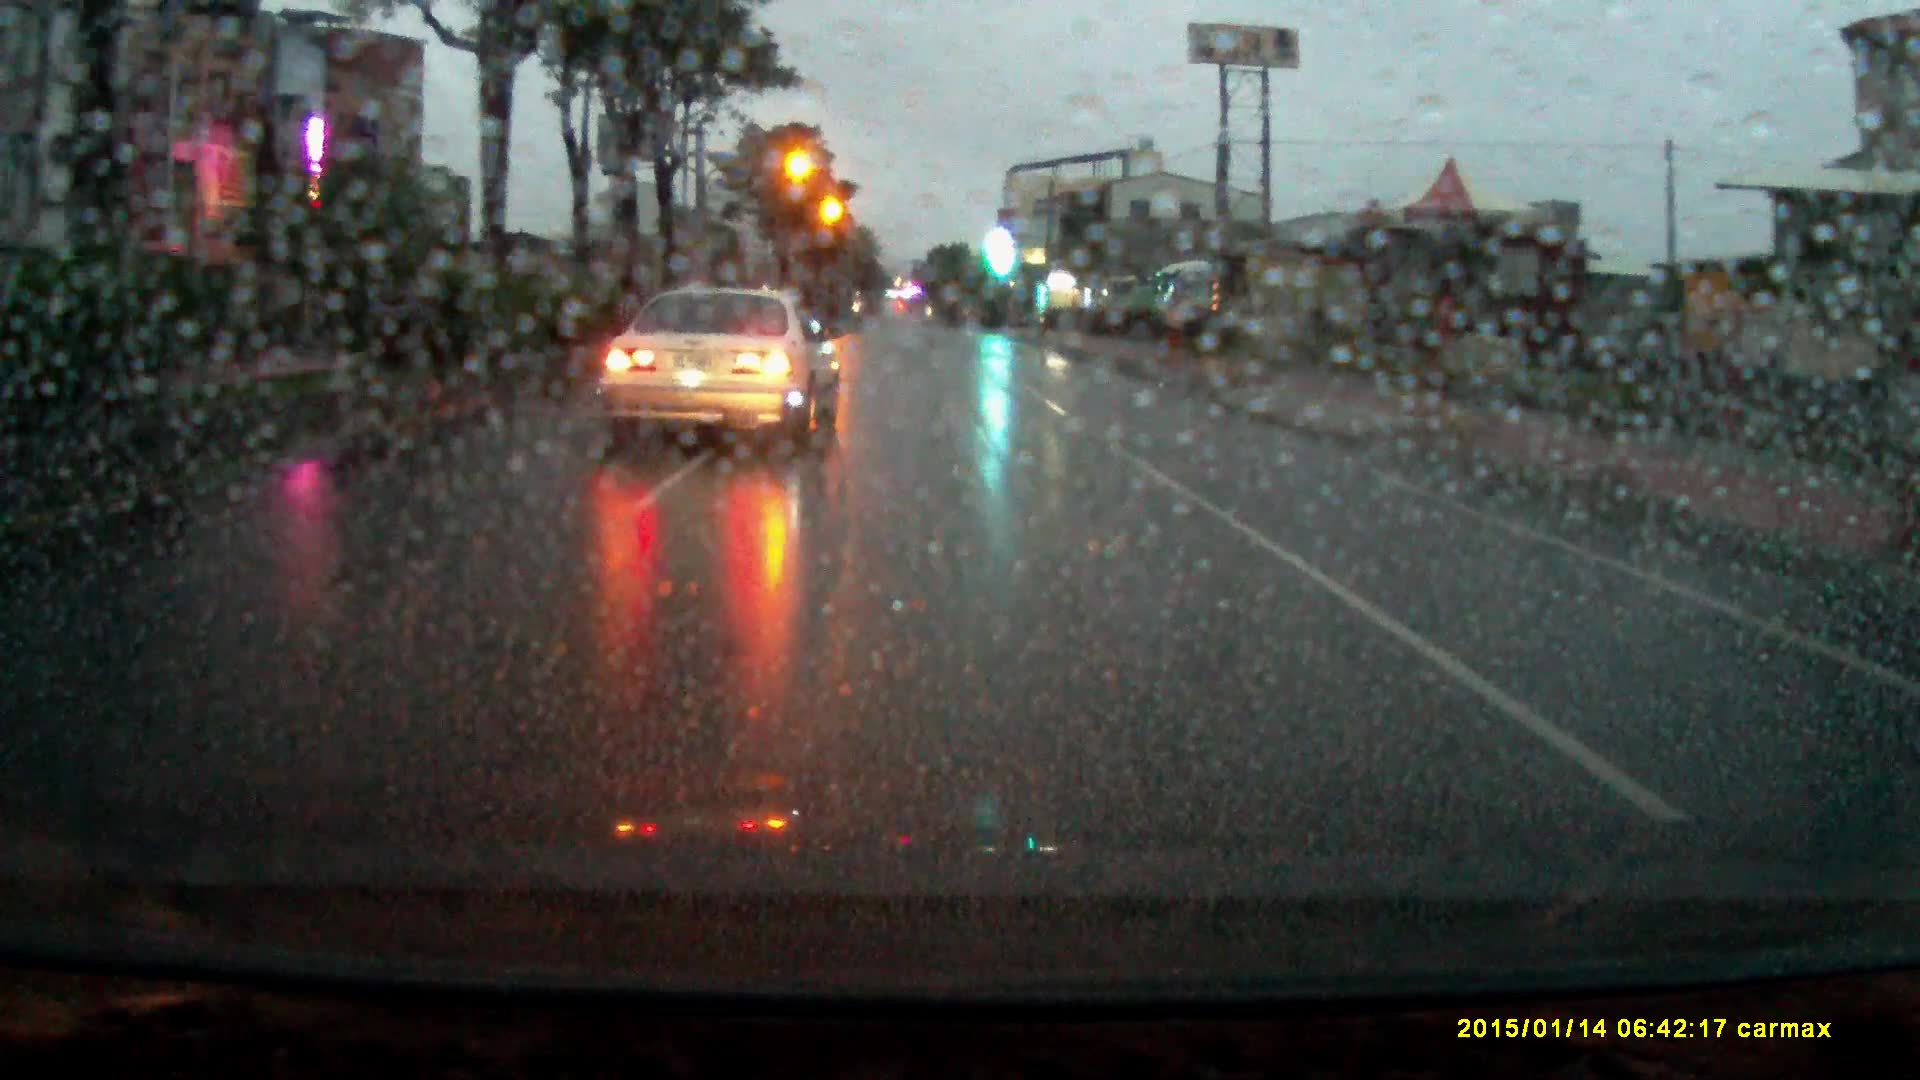vehicle: (593, 287, 848, 459), (1158, 261, 1226, 334), (1097, 276, 1146, 323)
